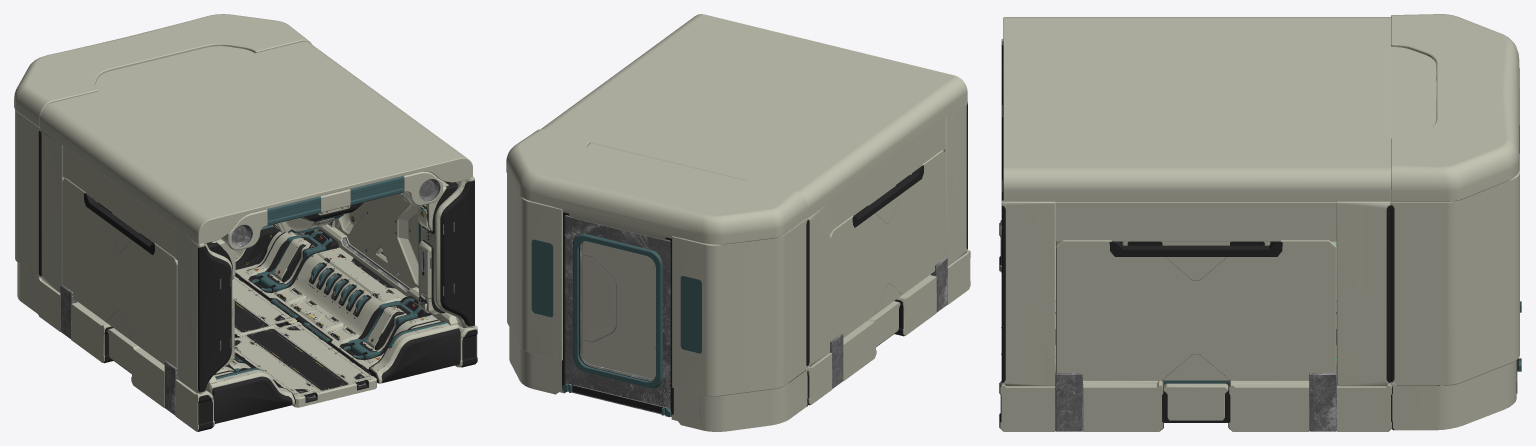
Rendered from sci_fi_hallway.glb.
3 renders of one model, left to right at view 1: azimuth 30°, elevation 25°; view 2: azimuth 150°, elevation 25°; view 3: azimuth 270°, elevation 25°, orthographic. The views are drawn at different scales.
Parts seen in each view (by area): view 1: Slice.003_Piece.001_Piece.006_1Plastic.001_0, Cube.002_Piece.004_1Plastic.001_0, Cube.002_Piece.014_1Plastic.001_0, Plane.007_1Plastic.001_0, Cube.002_Piece.014_1Rubber.001_0, Cube.002_Piece.004_1Rubber.001_0, Slice.003_Piece.015_1Plastic.001_0, Cube.002_Piece.014_1Metal_painted.001_0, Slice.003_Piece.015_1Rubber.001_0, Slice.003_Piece.001_Piece.006_1Metal_painted.001_0, Slice.003_Piece.016_1Plastic.001_0, Cube.002_Piece.004_1Metal.001_0 (+5 smaller); view 2: Plane.007_1Plastic.001_0, Slice.003_Piece.001_Piece.006_1Plastic.001_0, Cube.002_Piece.004_1Plastic.001_0, Plane.001_1Plastic.001_0, Plane.007_1Metal_painted.001_0, Plane.007_1Metal.001_0, Plane.007_1Rubber.001_0, Cube.002_Piece.004_1Rubber.001_0, Cube.002_Piece.004_1Metal.001_0; view 3: Cube.002_Piece.014_1Plastic.001_0, Slice.003_Piece.001_Piece.006_1Plastic.001_0, Plane.007_1Plastic.001_0, Cube.002_Piece.014_1Rubber.001_0, Cube.002_Piece.014_1Metal.001_0, Plane.007_1Rubber.001_0, Cube.002_Piece.004_1Rubber.001_0.
Part boxes in pixels (box(x1,y1,x2,y2)): Slice.003_Piece.001_Piece.006_1Plastic.001_0: box(39, 41, 472, 250); Cube.002_Piece.004_1Plastic.001_0: box(37, 129, 294, 431); Cube.002_Piece.014_1Plastic.001_0: box(235, 176, 477, 383); Plane.007_1Plastic.001_0: box(14, 14, 312, 313); Cube.002_Piece.014_1Rubber.001_0: box(235, 180, 477, 383); Cube.002_Piece.004_1Rubber.001_0: box(40, 131, 295, 431); Slice.003_Piece.015_1Plastic.001_0: box(234, 322, 376, 407); Cube.002_Piece.014_1Metal_painted.001_0: box(251, 222, 446, 359); Slice.003_Piece.015_1Rubber.001_0: box(234, 323, 372, 402); Slice.003_Piece.001_Piece.006_1Metal_painted.001_0: box(267, 176, 404, 233); Slice.003_Piece.016_1Plastic.001_0: box(232, 276, 297, 335); Cube.002_Piece.004_1Metal.001_0: box(60, 225, 289, 415); Plane.007_1Plastic.001_0: box(506, 129, 807, 431); Slice.003_Piece.001_Piece.006_1Plastic.001_0: box(541, 14, 967, 217); Cube.002_Piece.004_1Plastic.001_0: box(807, 101, 970, 404); Plane.001_1Plastic.001_0: box(581, 241, 655, 378); Plane.007_1Metal_painted.001_0: box(531, 233, 701, 417); Plane.007_1Metal.001_0: box(565, 215, 700, 416); Plane.007_1Rubber.001_0: box(562, 212, 808, 418); Cube.002_Piece.004_1Rubber.001_0: box(807, 103, 967, 405); Cube.002_Piece.004_1Metal.001_0: box(830, 195, 947, 388); Cube.002_Piece.014_1Plastic.001_0: box(1000, 200, 1391, 431); Slice.003_Piece.001_Piece.006_1Plastic.001_0: box(1003, 17, 1391, 202); Plane.007_1Plastic.001_0: box(1390, 14, 1519, 430); Cube.002_Piece.014_1Rubber.001_0: box(999, 205, 1392, 431); Cube.002_Piece.014_1Metal.001_0: box(1055, 257, 1336, 431); Plane.007_1Rubber.001_0: box(1390, 205, 1518, 430); Cube.002_Piece.004_1Rubber.001_0: box(999, 44, 1336, 313).
Bounding box in the file's own units: 4.46 × 3.3 × 5.92.
Materials: 11 (2 with a texture image).
